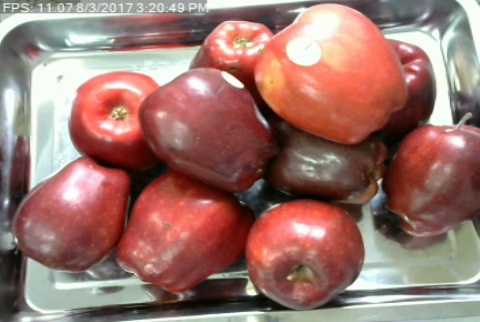Apple: (247, 0, 408, 147), (137, 65, 280, 194), (112, 168, 257, 294), (9, 154, 134, 273), (242, 196, 367, 312), (381, 111, 480, 239), (259, 117, 391, 206), (67, 70, 165, 170), (185, 16, 277, 94)
